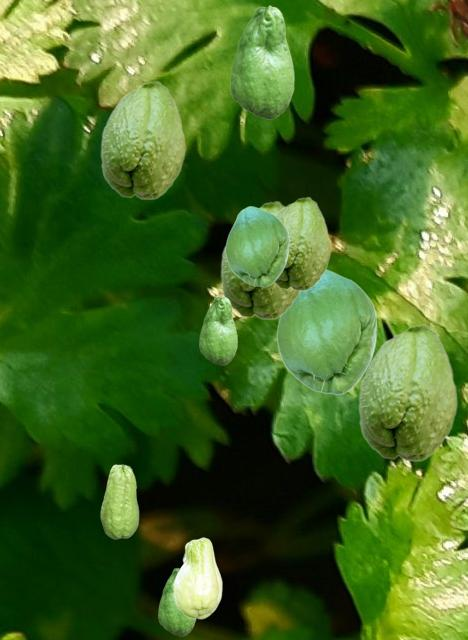sayote: (358, 323, 457, 461), (276, 269, 376, 394), (100, 80, 185, 199), (220, 200, 301, 319), (230, 5, 293, 118), (274, 196, 330, 290), (225, 206, 288, 286), (173, 537, 221, 618), (100, 464, 138, 538), (158, 567, 195, 635), (199, 296, 236, 364)
